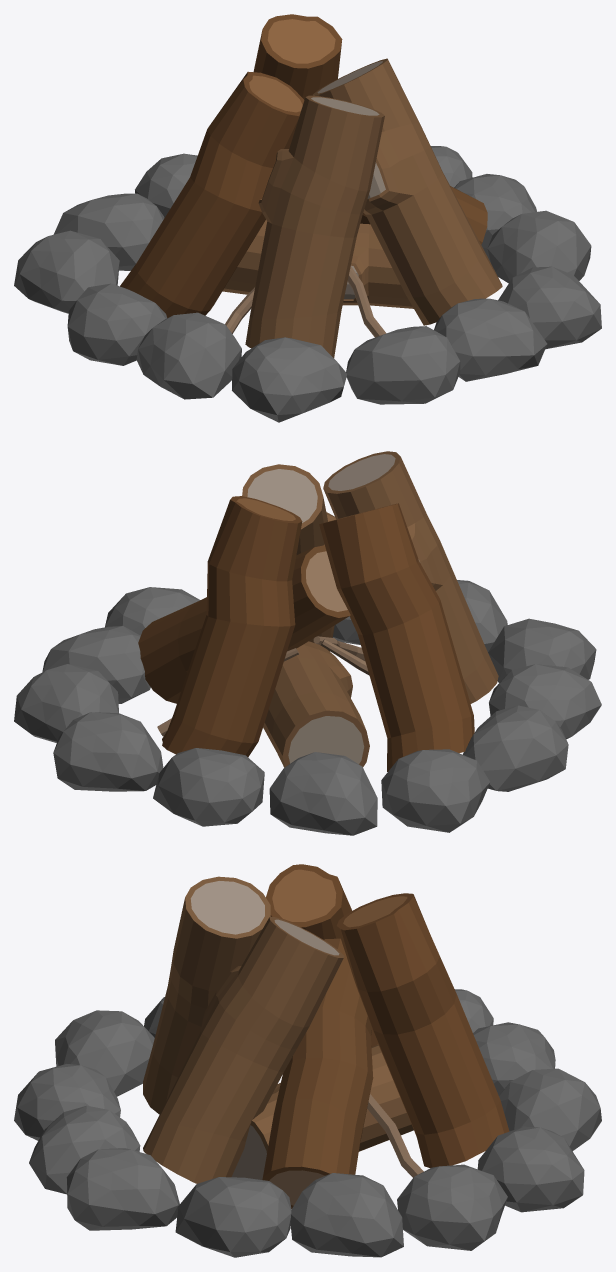
File: campfire.glb
3 renders of one model, top to bottom at view 1: azimuth 30°, elevation 25°; view 2: azimuth 150°, elevation 25°; view 3: azimuth 270°, elevation 25°, orthographic. The views are drawn at different scales.
Parts seen in each view (by area): view 1: logs, rocks, sticks; view 2: logs, rocks, sticks; view 3: logs, rocks, sticks.
Part boxes in pixels (x1,y1,x2,y2): logs: [120, 14, 502, 357]; rocks: [14, 146, 601, 422]; sticks: [225, 266, 386, 337]; logs: [138, 451, 498, 771]; rocks: [14, 580, 601, 835]; sticks: [157, 636, 369, 736]; logs: [143, 864, 509, 1208]; rocks: [14, 989, 601, 1257]; sticks: [367, 1094, 423, 1177].
Bounding box in the file's own units: 12.63 × 6.24 × 12.67.
